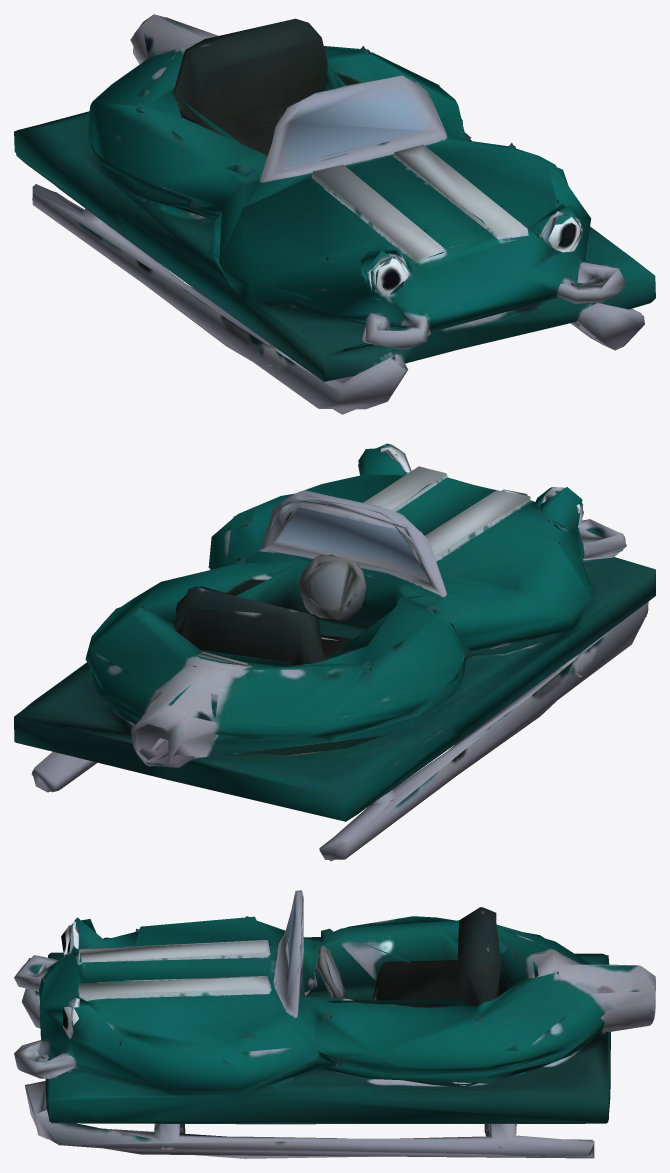
Rendered from veh_sled.glb.
3 renders of one model, top to bottom at view 1: azimuth 30°, elevation 25°; view 2: azimuth 150°, elevation 25°; view 3: azimuth 270°, elevation 25°, orthographic. The views are drawn at different scales.
Visible parts, largest first — view 1: geometry_0; view 2: geometry_0; view 3: geometry_0.
Boxes of the visible parts, x1,y1,x2,y2 form: geometry_0: (14,14,655,414); geometry_0: (14,443,655,861); geometry_0: (14,890,655,1158).
Size of the model in its own units: 2.5 by 1.44 by 4.43.
Materials: 1 (1 with a texture image).
